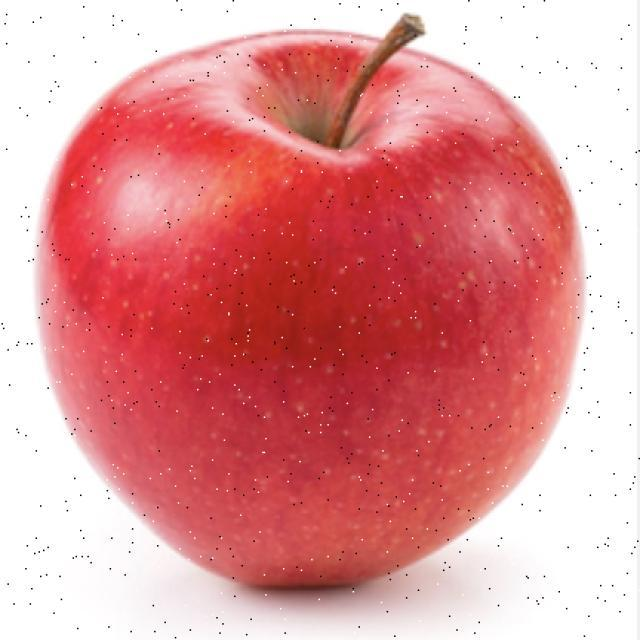Apple: (34, 13, 586, 590)
